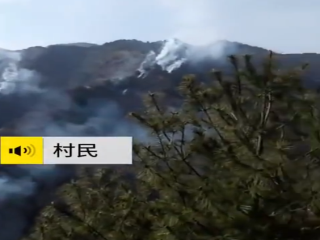smoke: (2, 46, 52, 103), (132, 33, 191, 78)
